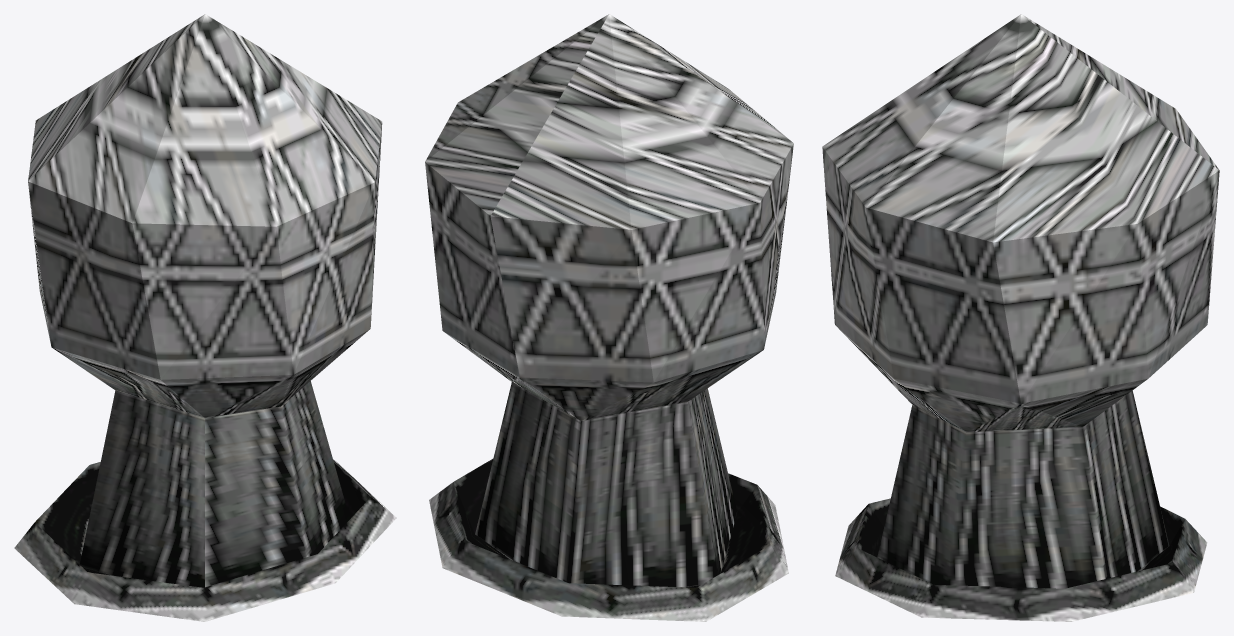
Rendered from star_destroyer_shieldtower_1_l3.fbx.
3 views of the same model, side by side, from view 1: azimuth 30°, elevation 25°; view 2: azimuth 150°, elevation 25°; view 3: azimuth 270°, elevation 25° (orthographic). The views are drawn at different scales.
Parts seen in each view (by area): view 1: mesh_node; view 2: mesh_node; view 3: mesh_node.
Boxes of the visible parts, x1,y1,x2,y2 form: mesh_node: (14, 14, 396, 621); mesh_node: (425, 14, 793, 621); mesh_node: (822, 14, 1219, 621).
Size of the model in its own units: 63.96 by 99.94 by 64.04.
1 material, 1 textured.
